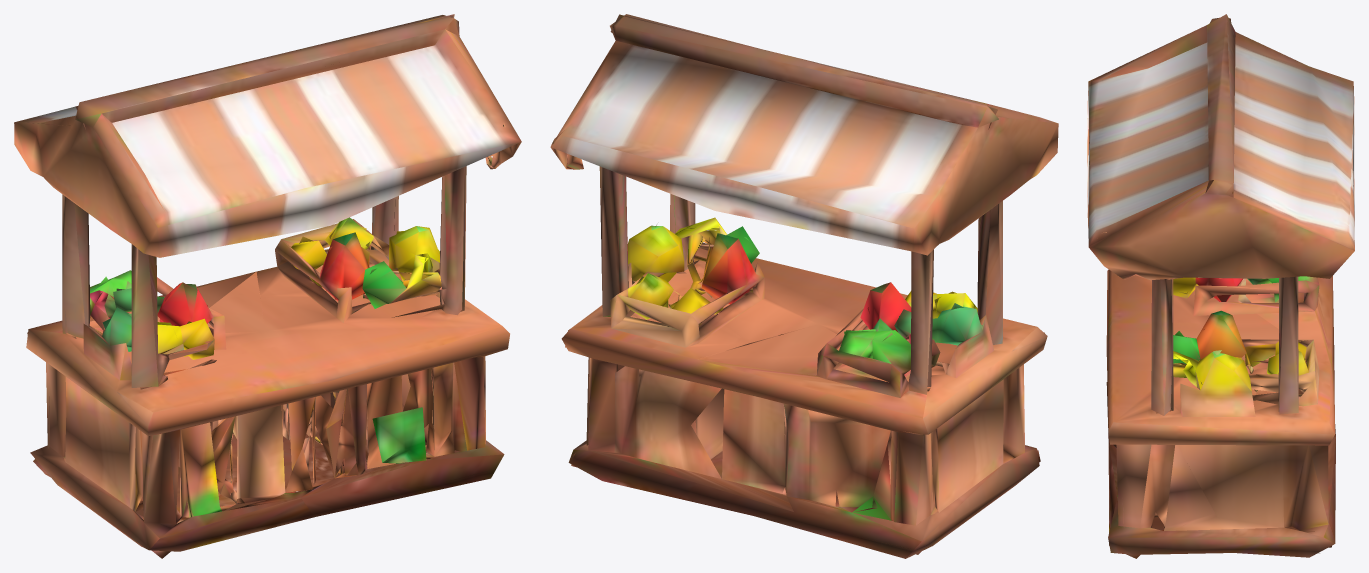
File: lg-market-stall-cloth.glb
The picture shows the model from 3 angles, left to right: view 1: azimuth 30°, elevation 25°; view 2: azimuth 150°, elevation 25°; view 3: azimuth 270°, elevation 25°; orthographic projection. The views are drawn at different scales.
Visible parts, largest first — view 1: geometry_0; view 2: geometry_0; view 3: geometry_0.
Boxes of the visible parts, x1,y1,x2,y2 form: geometry_0: [14, 14, 521, 558]; geometry_0: [550, 14, 1058, 558]; geometry_0: [1087, 14, 1354, 558].
Bounding box in the file's own units: 0.962 × 1 × 0.6265.
Materials: 1 (1 with a texture image).
